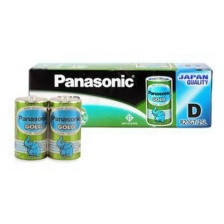battery: (46, 93, 85, 163), (11, 93, 49, 162)
book: (25, 59, 215, 130)
